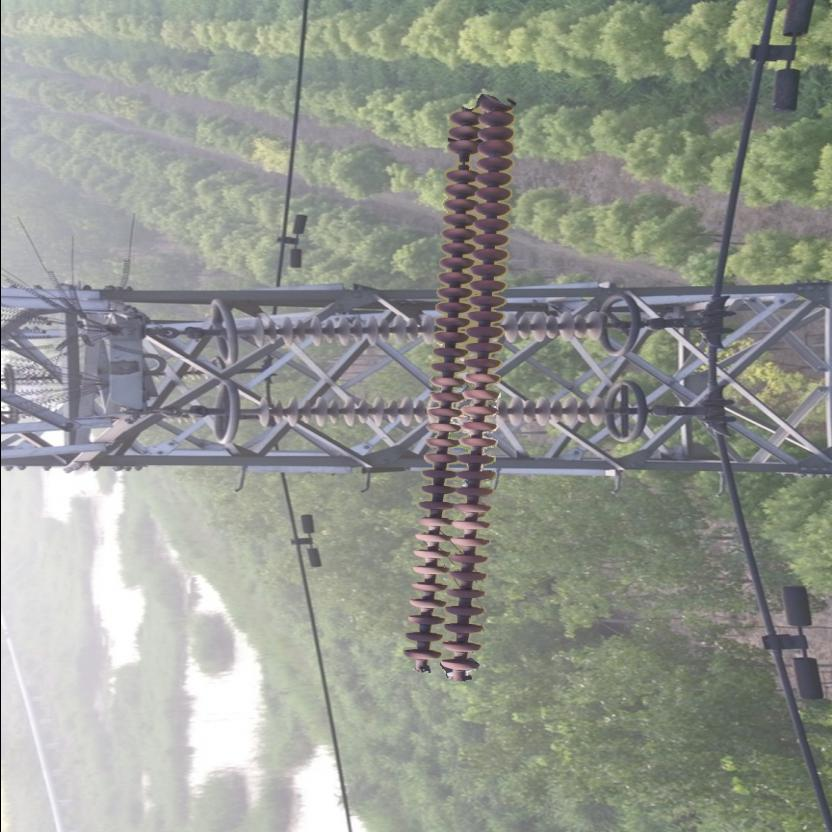defect: (442, 140, 479, 184)
